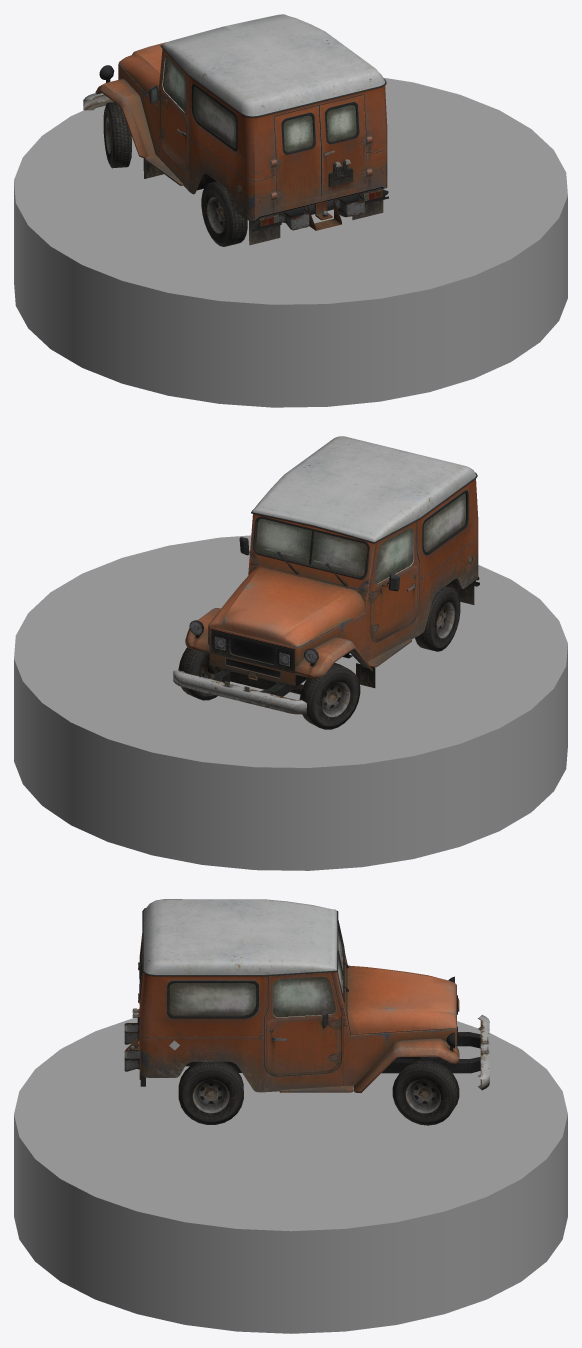
File: toyto r-15.obj
The picture shows the model from 3 angles, top to bottom: view 1: azimuth 30°, elevation 25°; view 2: azimuth 150°, elevation 25°; view 3: azimuth 270°, elevation 25°; orthographic projection.
Visible parts, largest first — view 1: Cylinder, DrawCall_0393, DrawCall_0452, DrawCall_0394; view 2: Cylinder, DrawCall_0393, DrawCall_0452, DrawCall_0394; view 3: Cylinder, DrawCall_0393, DrawCall_0452, DrawCall_0394.
Boxes of the visible parts, box(x1,y1,x2,y2) form: Cylinder: box(14, 77, 567, 407); DrawCall_0393: box(95, 14, 387, 246); DrawCall_0452: box(163, 56, 356, 151); DrawCall_0394: box(83, 93, 388, 231); Cylinder: box(14, 535, 567, 870); DrawCall_0393: box(178, 436, 478, 729); DrawCall_0452: box(256, 493, 465, 583); DrawCall_0394: box(173, 577, 479, 714); Cylinder: box(14, 1018, 567, 1333); DrawCall_0393: box(124, 899, 488, 1125); DrawCall_0452: box(140, 930, 342, 1017); DrawCall_0394: box(125, 1015, 489, 1090).
Size of the model in its own units: 6.96 by 3.67 by 6.96.
